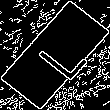L_NW: (24, 27, 86, 83)
